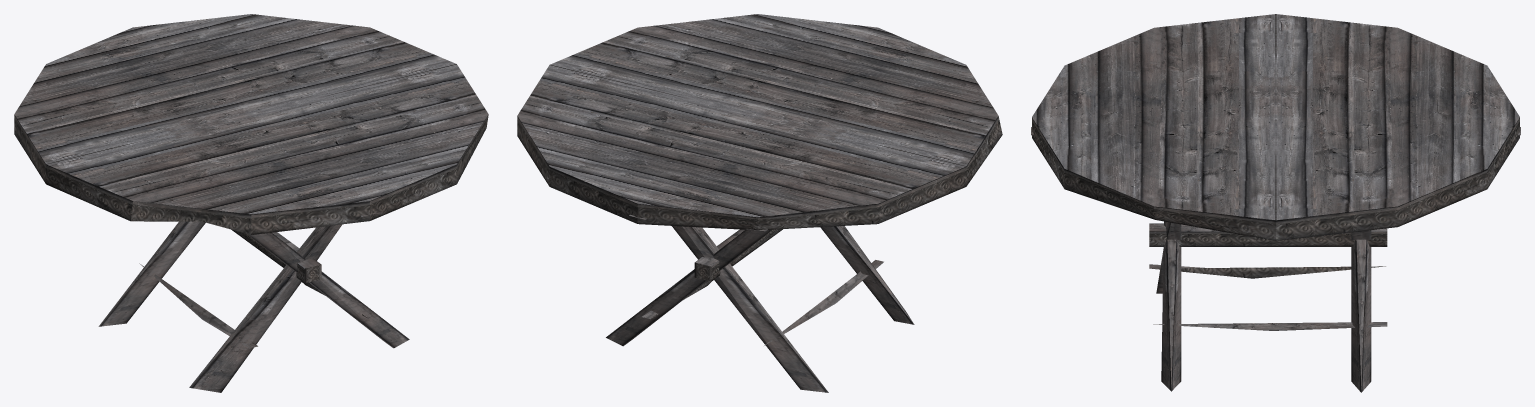
The model's file is tavern_table_LOD.dae.
3 views of the same model, side by side, from view 1: azimuth 30°, elevation 25°; view 2: azimuth 150°, elevation 25°; view 3: azimuth 270°, elevation 25° (orthographic). The views are drawn at different scales.
Visible parts, largest first — view 1: Default_Layer; view 2: Default_Layer; view 3: Default_Layer.
Part boxes in pixels (<box>): Default_Layer: <box>14,14,488,392</box>; Default_Layer: <box>517,14,1002,392</box>; Default_Layer: <box>1031,14,1520,392</box>.
Size of the model in its own units: 7.44 by 3.73 by 7.46.
